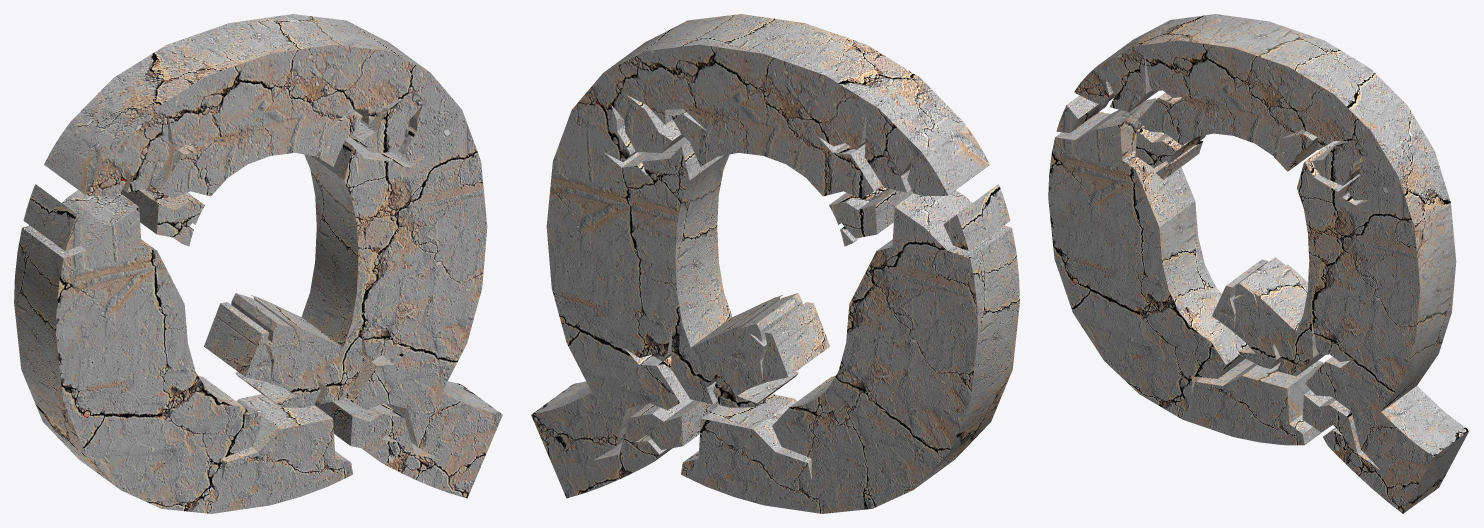
3 renders of one model, left to right at view 1: azimuth 30°, elevation 25°; view 2: azimuth 150°, elevation 25°; view 3: azimuth 330°, elevation 25°, orthographic. The views are drawn at different scales.
Parts seen in each view (by area): view 1: Q; view 2: Q; view 3: Q.
Part boxes in pixels (<box>): Q: <box>14,14,502,513</box>; Q: <box>531,14,1019,513</box>; Q: <box>1048,14,1469,513</box>.
Bounding box in the file's own units: 92.65 × 97.58 × 15.
1 material, 1 textured.
